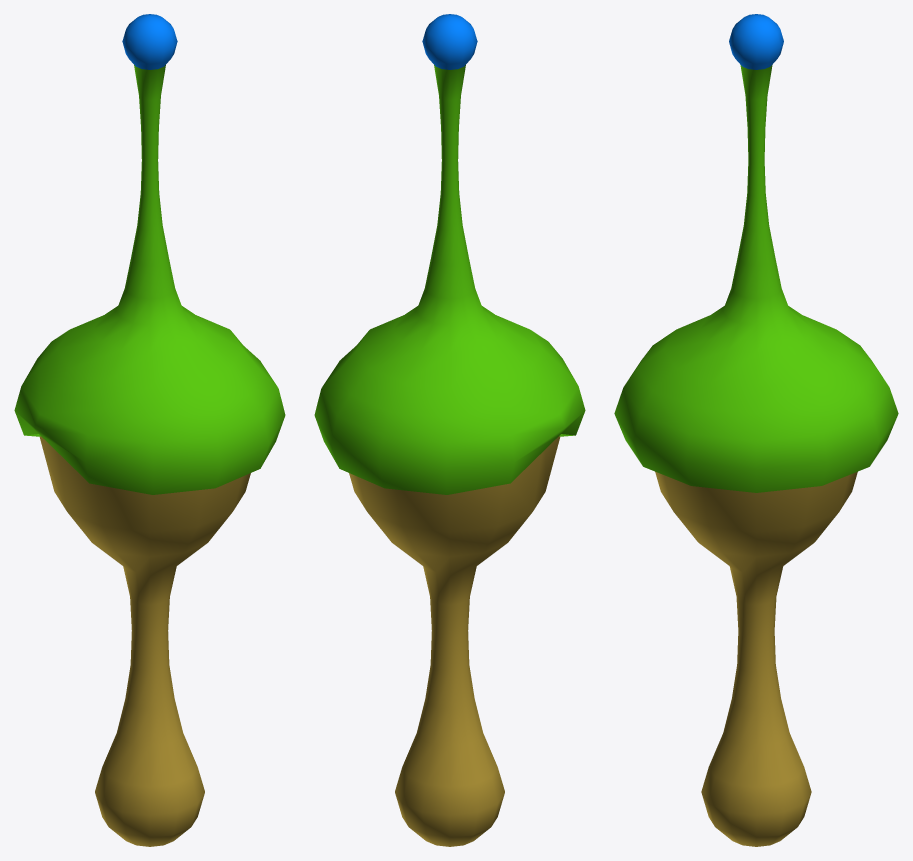
File: Placeholder_Wisp_HP.FBX
3 views of the same model, side by side, from view 1: azimuth 30°, elevation 25°; view 2: azimuth 150°, elevation 25°; view 3: azimuth 270°, elevation 25° (orthographic).
Visible parts, largest first — view 1: Sphere029; view 2: Sphere029; view 3: Sphere029.
Part boxes in pixels (x1=…): Sphere029: x1=14, y1=14, x2=285, y2=846; Sphere029: x1=314, y1=14, x2=585, y2=846; Sphere029: x1=614, y1=14, x2=898, y2=846.
Size of the model in its own units: 24.15 by 82.5 by 25.75.
